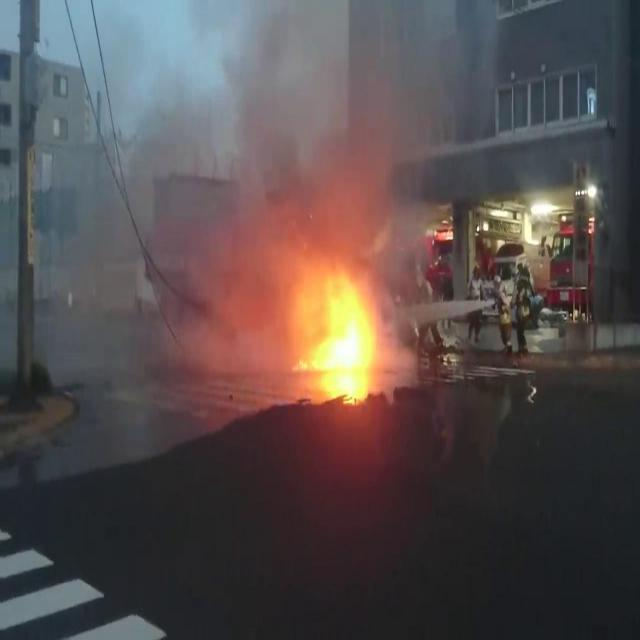Fire: (299, 275, 381, 405)
Smoke: (100, 25, 477, 228), (51, 243, 282, 370)
